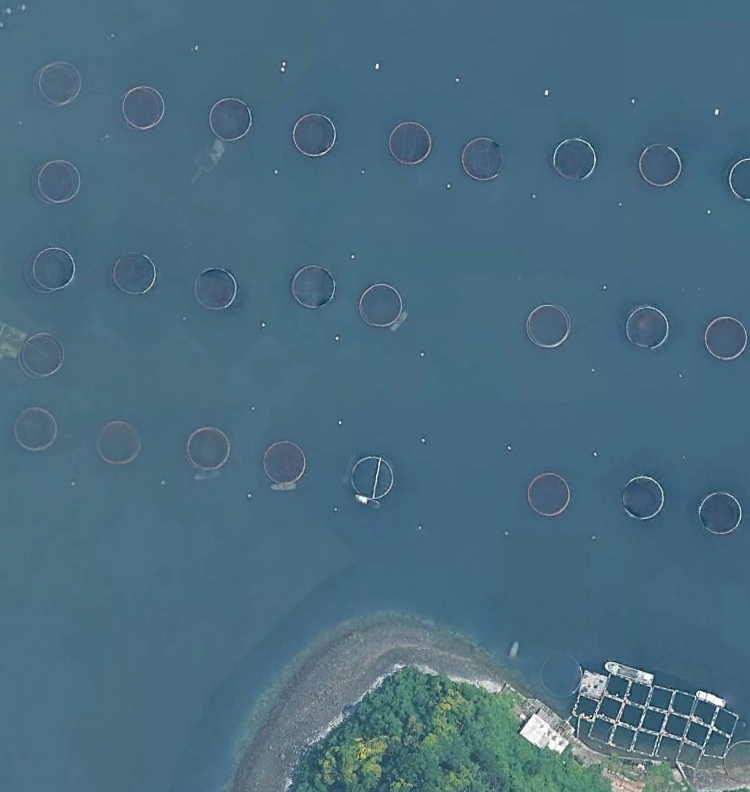circle: (615, 458, 678, 528), (96, 243, 162, 309), (346, 271, 410, 337), (611, 292, 674, 358), (250, 433, 311, 499), (342, 444, 405, 507), (532, 641, 593, 705), (551, 125, 611, 190), (20, 236, 79, 302), (280, 108, 349, 164), (28, 53, 88, 116), (179, 257, 242, 317), (86, 407, 146, 470), (203, 89, 264, 150), (109, 77, 171, 137), (692, 475, 750, 539), (179, 412, 235, 478), (696, 303, 750, 371), (457, 126, 515, 189), (515, 294, 574, 355), (520, 462, 579, 522), (380, 112, 436, 172), (32, 151, 86, 212), (282, 254, 338, 312), (632, 137, 687, 194), (14, 331, 69, 384), (14, 402, 60, 456)
house: (515, 700, 577, 756)
ship: (603, 655, 657, 685), (693, 684, 729, 710)
square: (702, 726, 738, 763), (590, 690, 627, 725), (568, 692, 604, 726), (652, 730, 686, 764), (661, 707, 694, 741), (688, 693, 720, 727), (603, 671, 635, 704), (666, 684, 698, 716), (646, 682, 679, 713), (584, 712, 617, 743), (629, 724, 659, 758), (579, 665, 607, 701), (682, 716, 713, 748), (640, 704, 670, 735), (713, 703, 741, 736), (611, 719, 638, 753), (619, 699, 646, 730), (678, 737, 705, 768)
